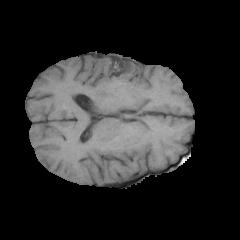glioma: (74, 61, 138, 97)
